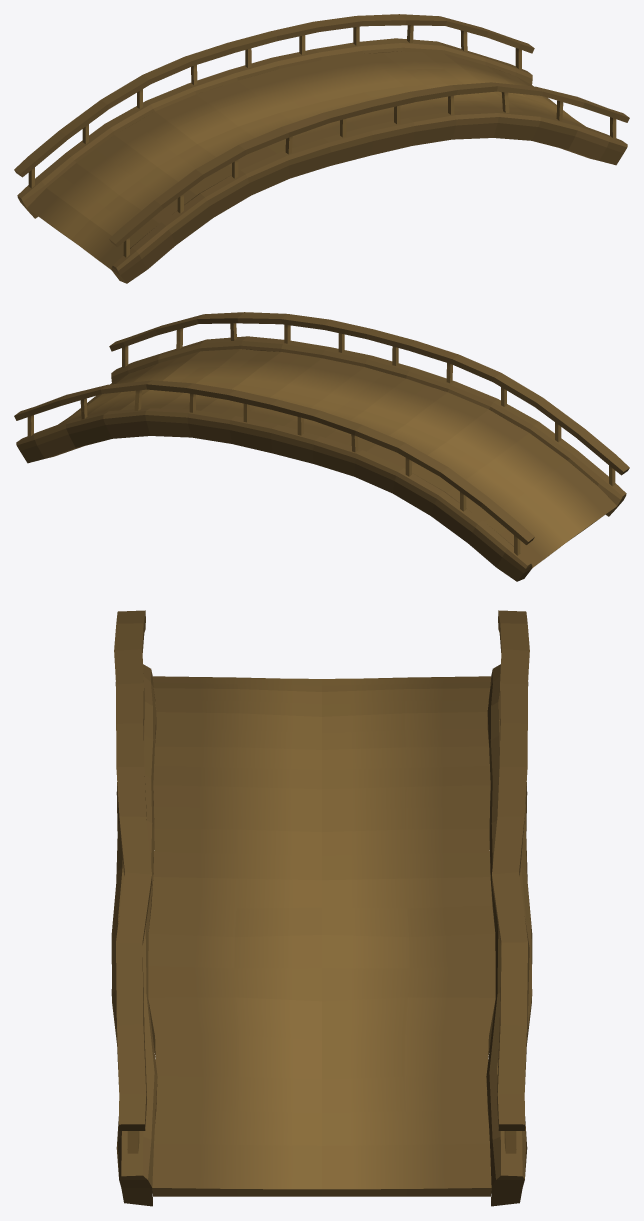
Rendered from wooden bridge.fbx.
3 views of the same model, one above another, from view 1: azimuth 30°, elevation 25°; view 2: azimuth 150°, elevation 25°; view 3: azimuth 270°, elevation 25° (orthographic). The views are drawn at different scales.
Parts seen in each view (by area): view 1: wooden bridge_LOD0; view 2: wooden bridge_LOD0; view 3: wooden bridge_LOD0.
Boxes of the visible parts, x1,y1,x2,y2 form: wooden bridge_LOD0: (14, 14, 629, 283); wooden bridge_LOD0: (14, 312, 629, 581); wooden bridge_LOD0: (111, 610, 532, 1206).
Size of what is drawn, in the model's own units: 38.17 by 8.64 by 13.52.
